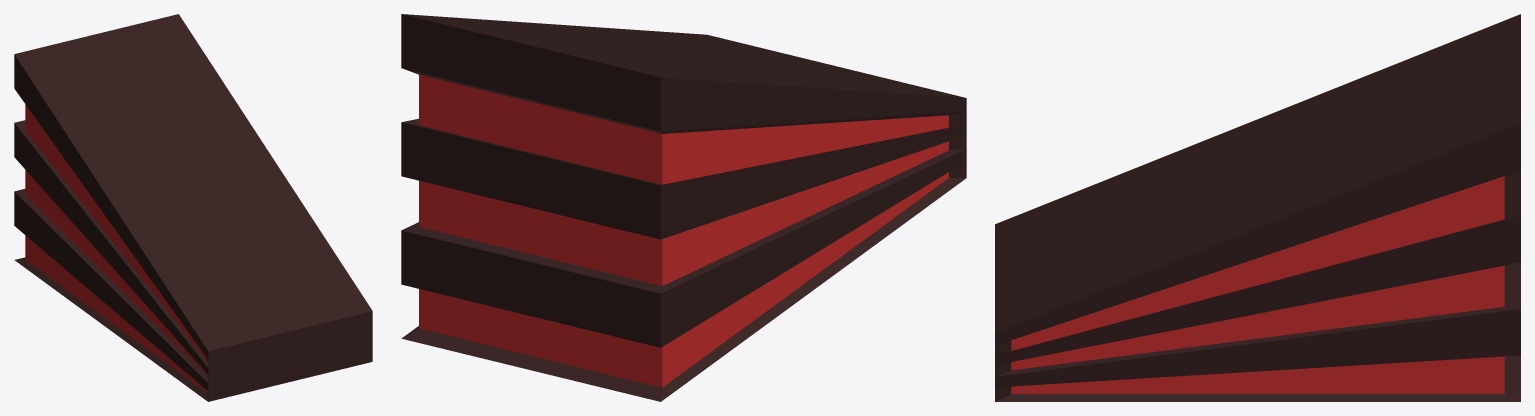
Rendered from bag.fbx.
The picture shows the model from 3 angles, left to right: view 1: azimuth 30°, elevation 25°; view 2: azimuth 150°, elevation 25°; view 3: azimuth 270°, elevation 25°; orthographic projection. The views are drawn at different scales.
Parts seen in each view (by area): view 1: Cube.008; view 2: Cube.008; view 3: Cube.008.
Boxes of the visible parts, <box> form: Cube.008: <box>14,14,372,401</box>; Cube.008: <box>401,14,966,401</box>; Cube.008: <box>995,14,1520,401</box>.
Bounding box in the file's own units: 200 × 239 × 408.
